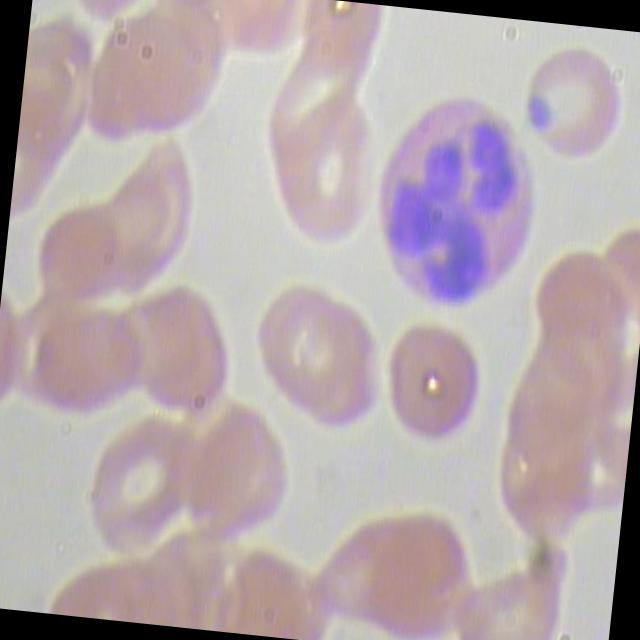RBC: (75, 406, 204, 565), (268, 88, 384, 264), (76, 5, 194, 153), (188, 403, 298, 556), (24, 296, 150, 426), (284, 298, 394, 442), (358, 509, 478, 640), (248, 278, 356, 423), (516, 42, 626, 174), (376, 318, 485, 447), (33, 202, 134, 316)
WBC: (363, 85, 542, 328)
